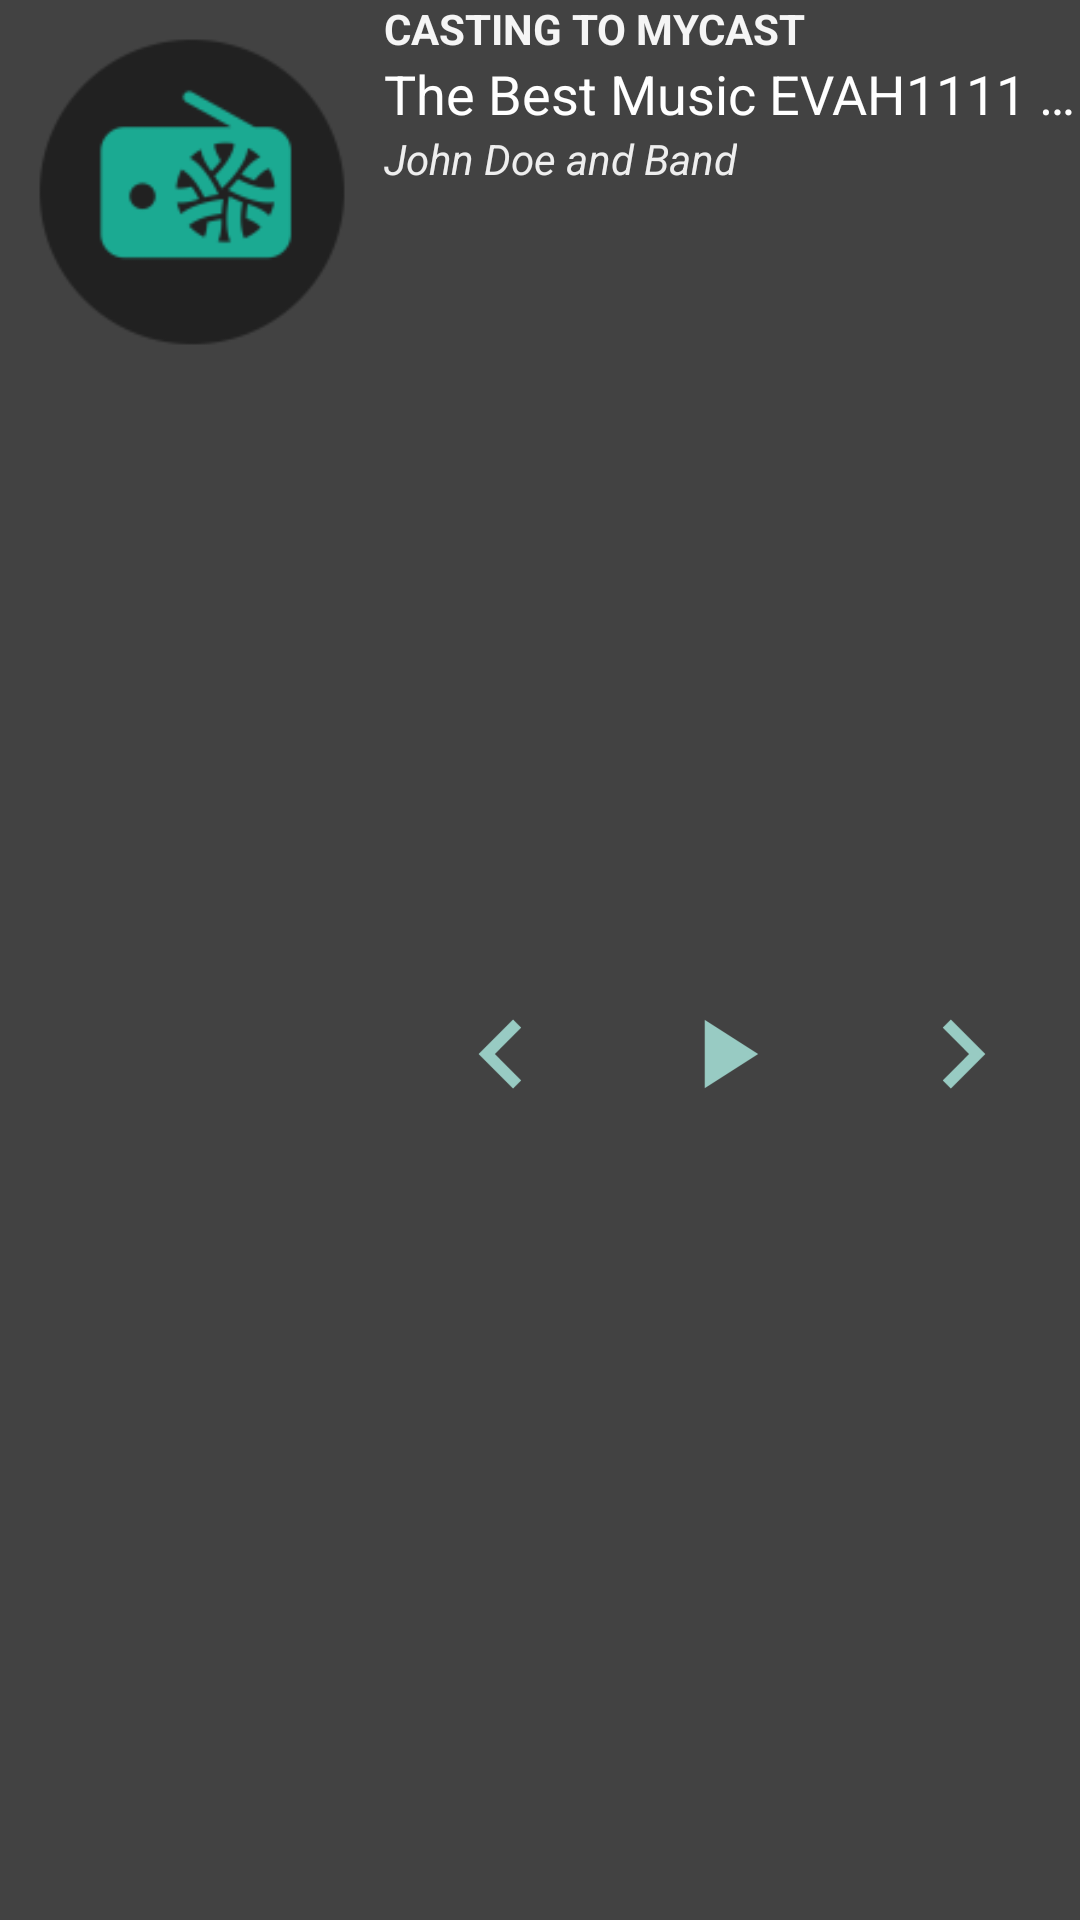

Icon bounding boxes for this 1080 × 1920 phone screenshot, format box=[x1, y1, x2, y2]:
notif next: box=[943, 1020, 985, 1089]
notif play: box=[704, 1020, 758, 1088]
notif prev: box=[479, 1020, 521, 1089]
